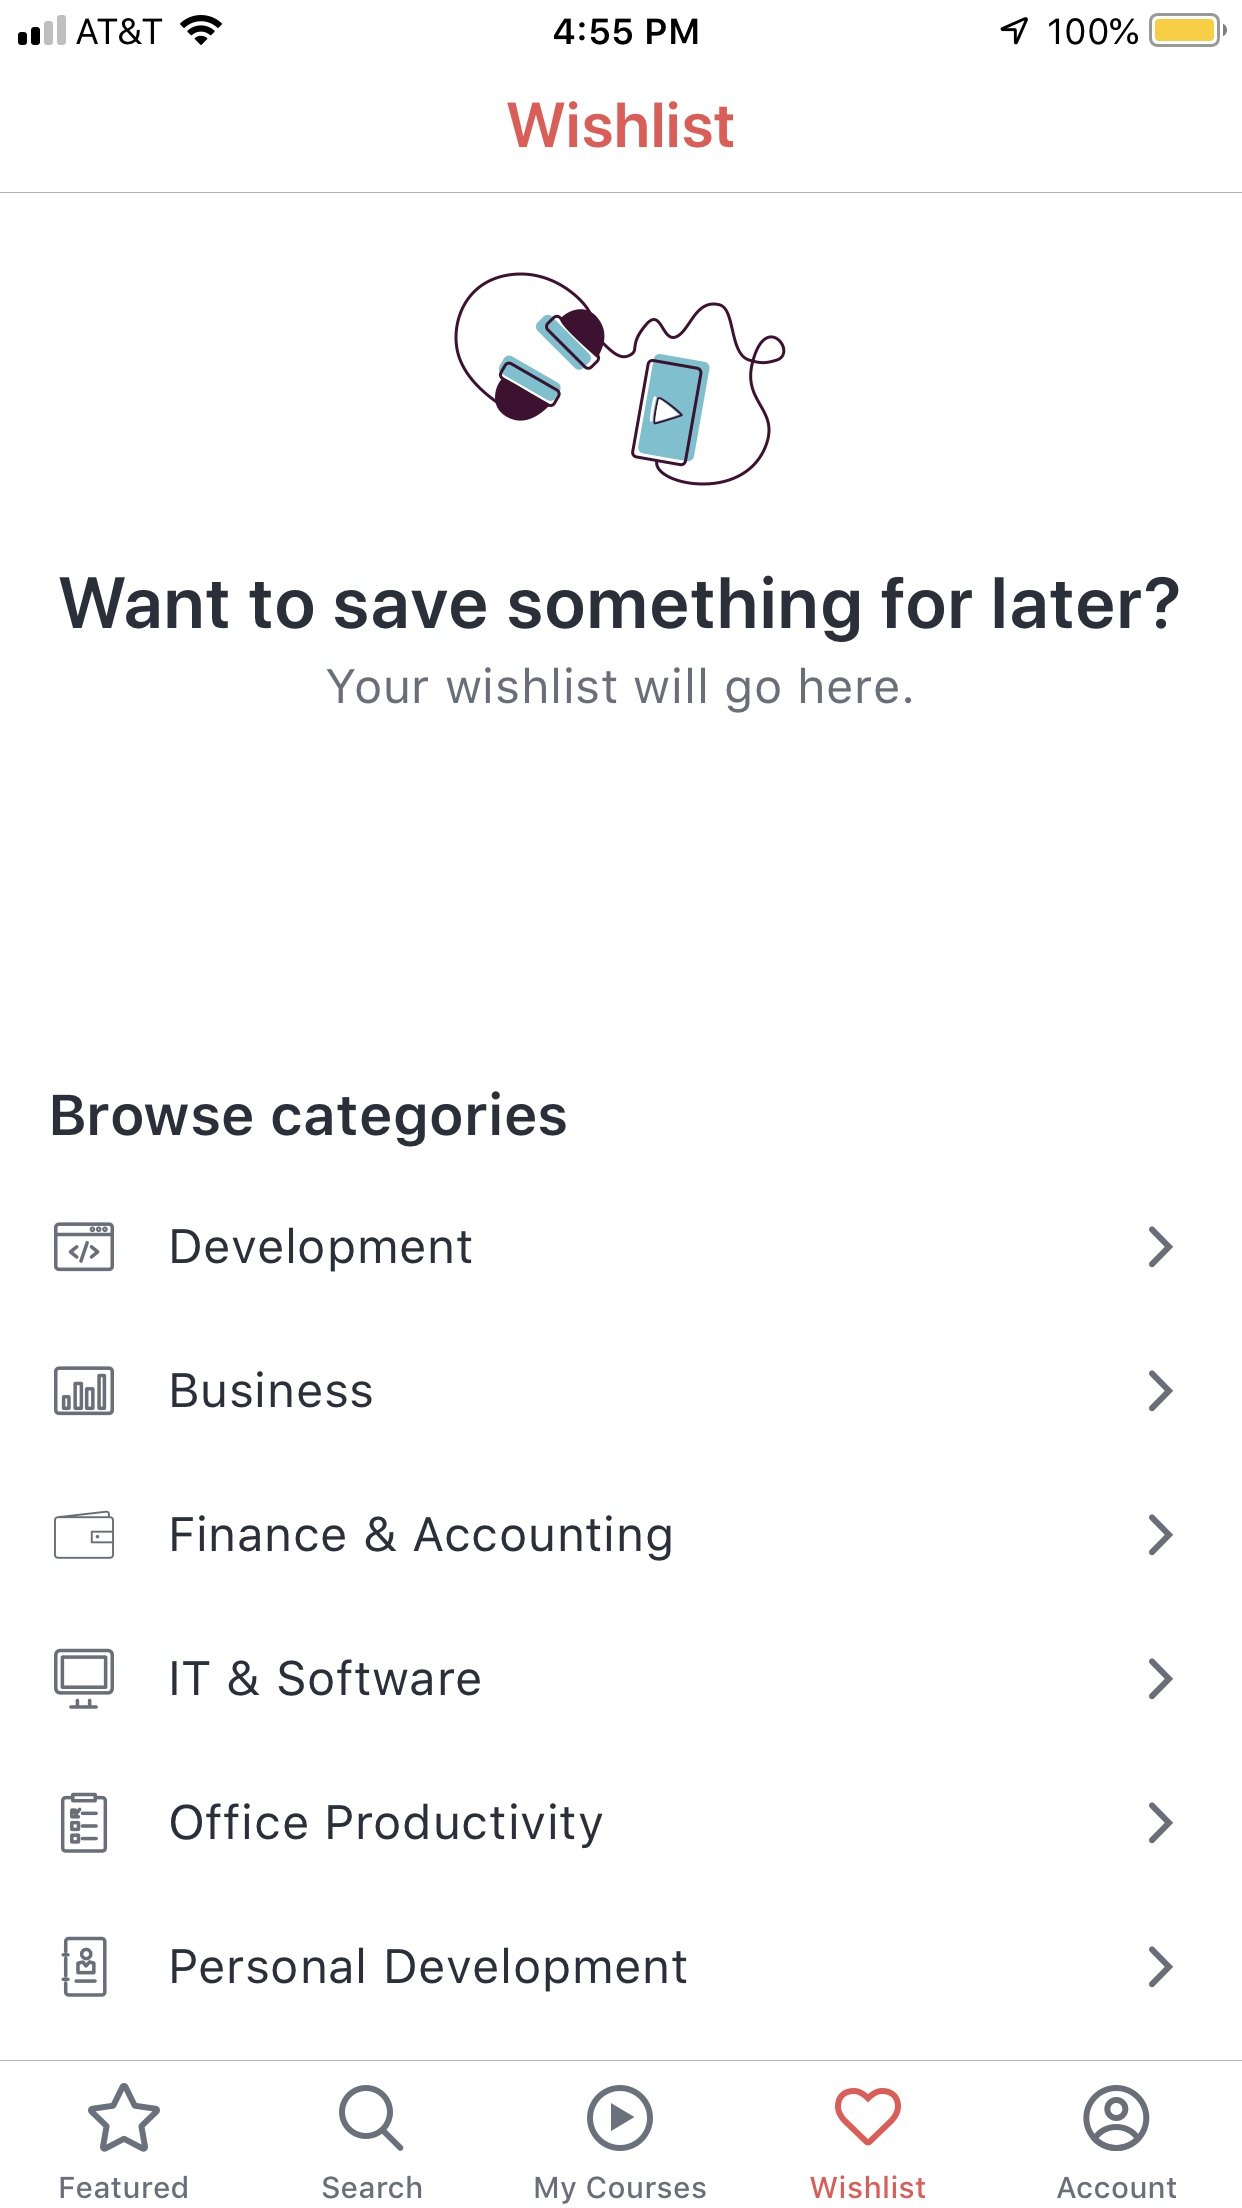Icon: (88, 2081, 162, 2152), (585, 2084, 654, 2152), (1081, 2084, 1149, 2152), (338, 2084, 405, 2152), (834, 2087, 902, 2146), (55, 1221, 115, 1272), (55, 1365, 115, 1416), (55, 1510, 115, 1560), (61, 1792, 109, 1855), (62, 1935, 109, 1999), (1146, 1369, 1174, 1413), (1146, 1802, 1174, 1844), (1146, 1658, 1174, 1700), (1148, 1946, 1174, 1990), (1148, 1513, 1174, 1557), (1148, 1225, 1174, 1269)
Image: (453, 271, 787, 487), (55, 1647, 115, 1711)
Text: (59, 575, 1178, 645), (52, 1090, 567, 1148), (326, 666, 911, 714), (171, 1946, 688, 1993), (171, 1513, 672, 1562), (171, 1802, 604, 1849), (171, 1225, 473, 1272), (171, 1658, 482, 1697), (507, 102, 734, 150), (171, 1369, 373, 1409), (535, 2175, 707, 2203), (61, 2175, 190, 2200), (808, 2175, 927, 2200), (1055, 2175, 1178, 2199), (321, 2175, 423, 2200)
UpperTaskBar: (2, 2, 1242, 49)
